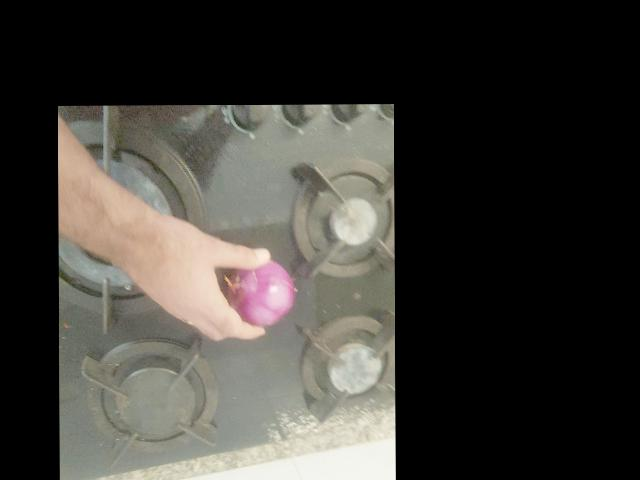onion: (228, 259, 298, 327)
